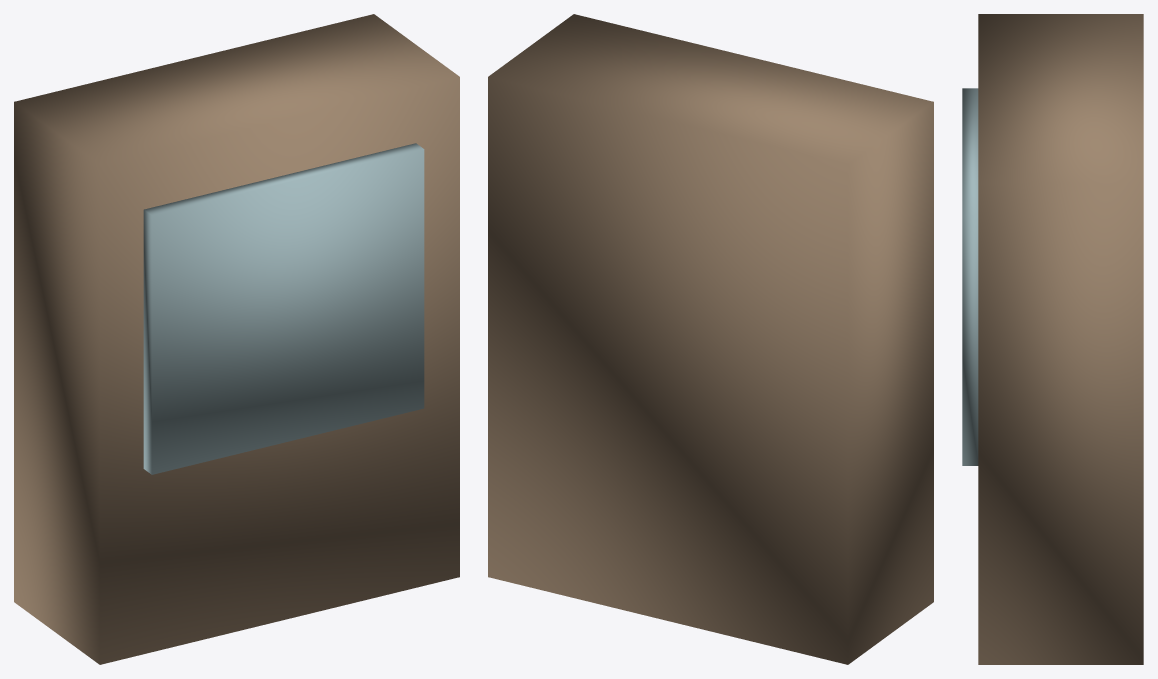
The model's file is shrine_cabinet__wide.glb.
The picture shows the model from 3 angles, left to right: view 1: azimuth 30°, elevation 25°; view 2: azimuth 150°, elevation 25°; view 3: azimuth 270°, elevation 25°; orthographic projection. The views are drawn at different scales.
Parts seen in each view (by area): view 1: world; view 2: world; view 3: world.
Boxes of the visible parts, x1,y1,x2,y2 form: world: [14, 14, 459, 664]; world: [488, 14, 933, 664]; world: [962, 14, 1143, 664].
Bounding box in the file's own units: 1.02 × 1.35 × 0.46.
